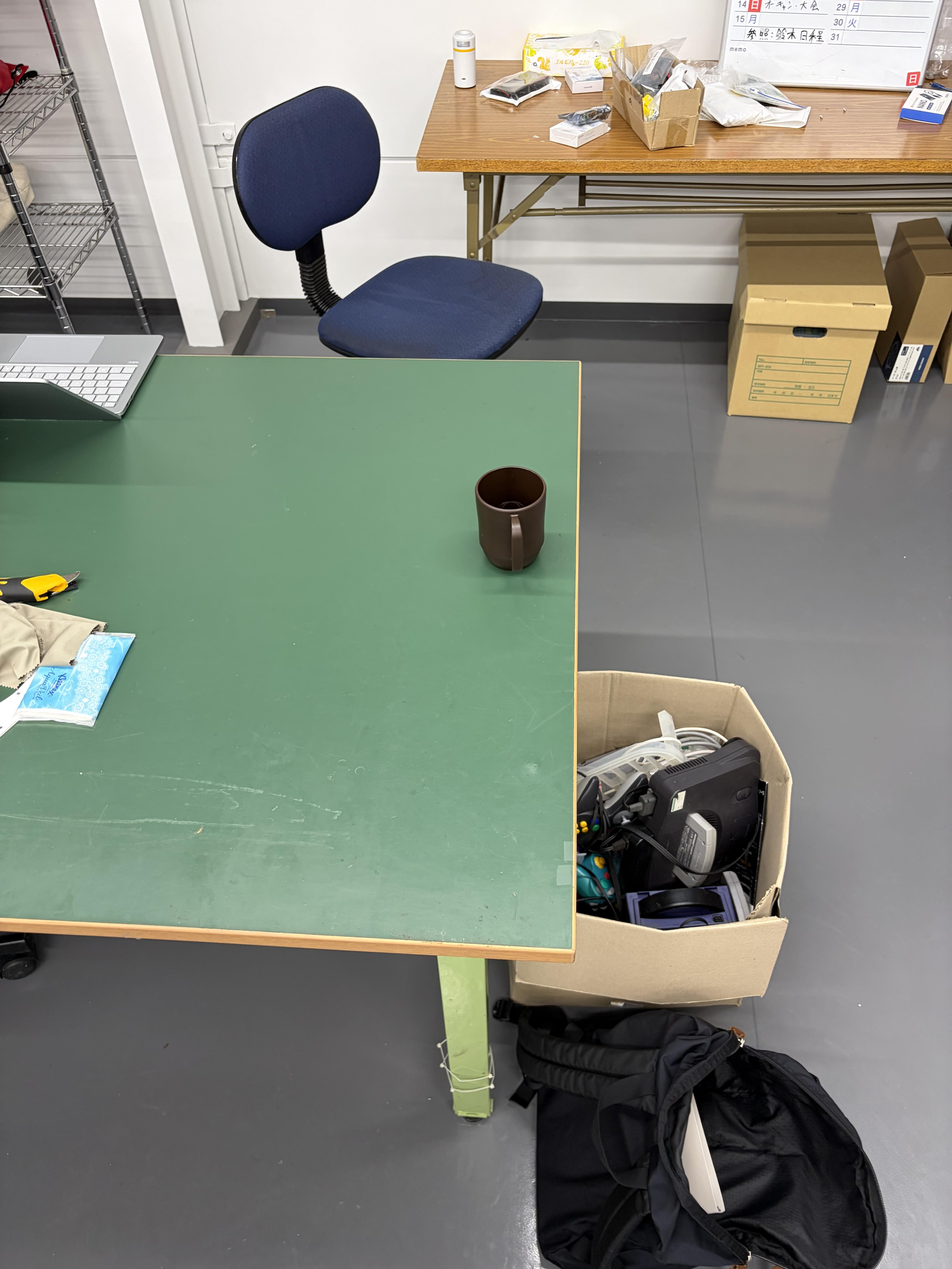mug-real100-3d100: (475, 467, 546, 571)
